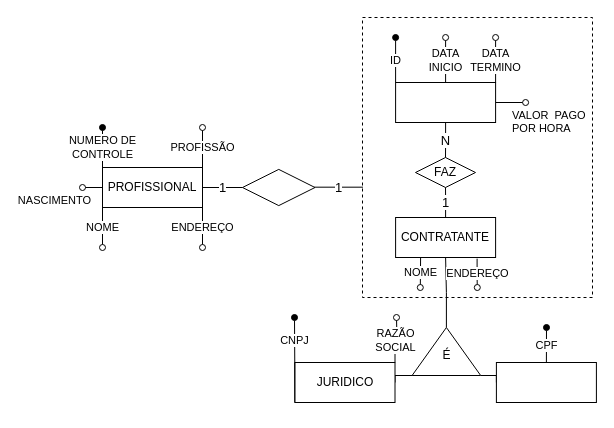
Image size: 614x428. Some labels were removed from this diagram. The shapes that lost their labels are listed below. From the top down, each one's centre as x and y in pixels, then its label:
the point at 445,102: CONTRATO
the point at 278,187: POSSUI
the point at 545,382: FÍSICA
